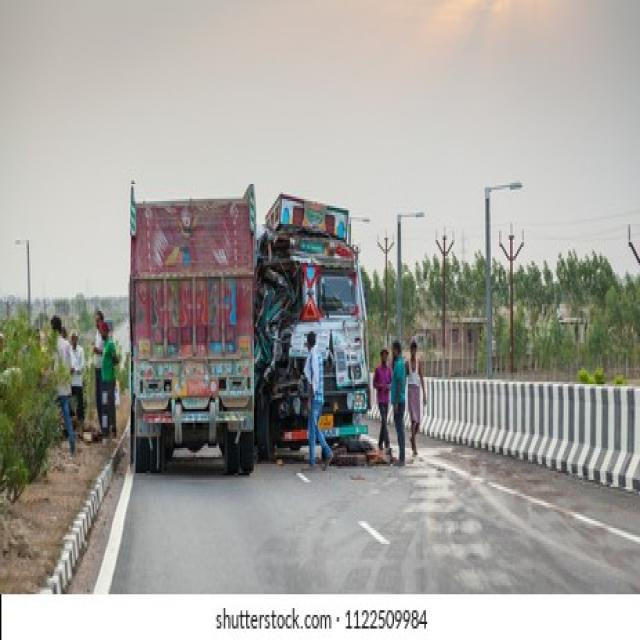accident: (252, 194, 370, 458)
truck: (131, 184, 254, 473)
